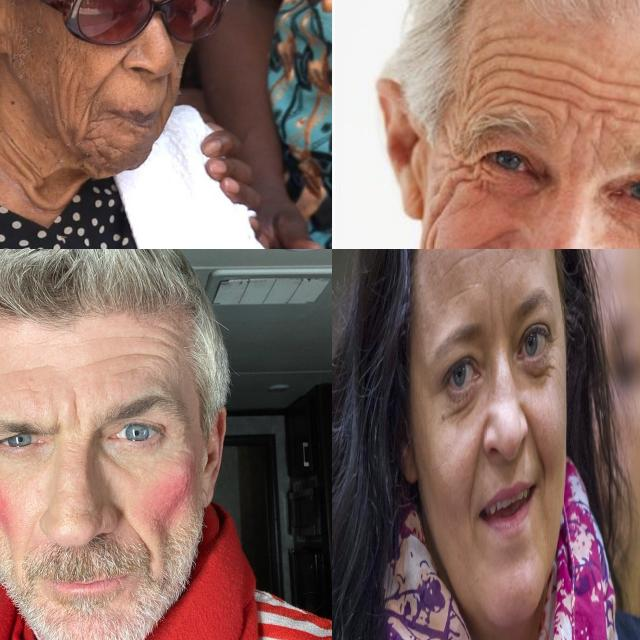crows_feet: (434, 152, 474, 196), (551, 333, 561, 350)
forehead: (475, 38, 575, 114), (102, 332, 178, 380), (601, 70, 640, 129), (0, 362, 60, 380), (441, 252, 476, 278), (447, 281, 470, 304), (496, 253, 516, 273)
frown_line: (485, 297, 510, 340), (64, 391, 84, 434), (568, 120, 586, 154)
gummy_smile: (524, 412, 546, 476), (119, 511, 153, 552), (453, 228, 512, 249), (95, 54, 122, 96), (469, 425, 484, 497), (156, 76, 172, 112)
masseter: (51, 68, 68, 115), (422, 227, 454, 249)
sad_smile: (81, 108, 99, 150)
